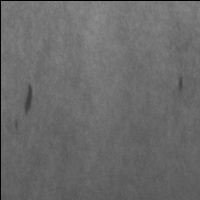inclusion: (12, 83, 35, 131), (175, 67, 187, 96)
